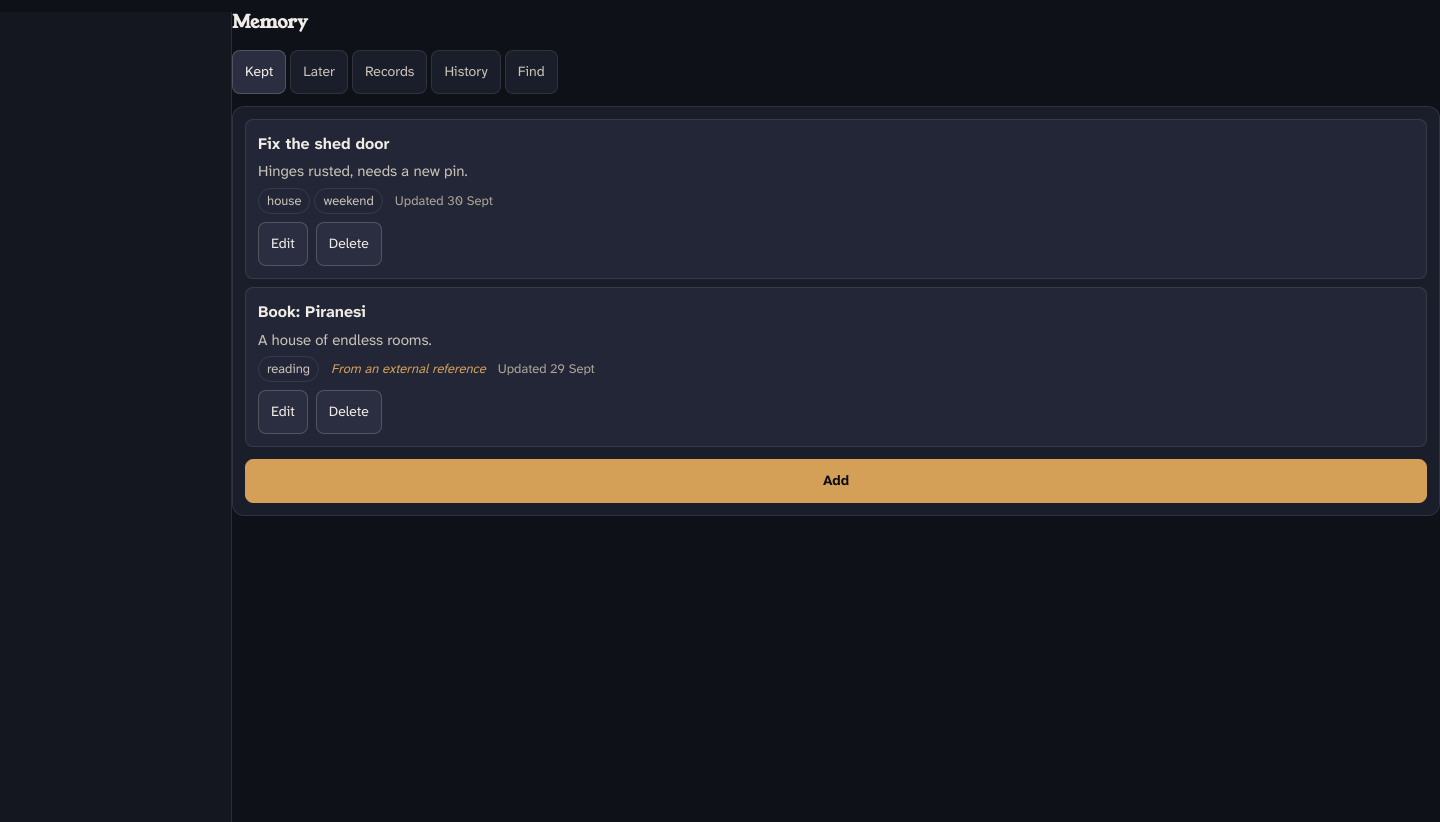
Scenario: Memory › Records shows a locked placeholder for masked rows; each tab has its own sentence
Step 1. Click the tab "Kept" → (259, 72), box x1=232 y1=50 x2=286 y2=94
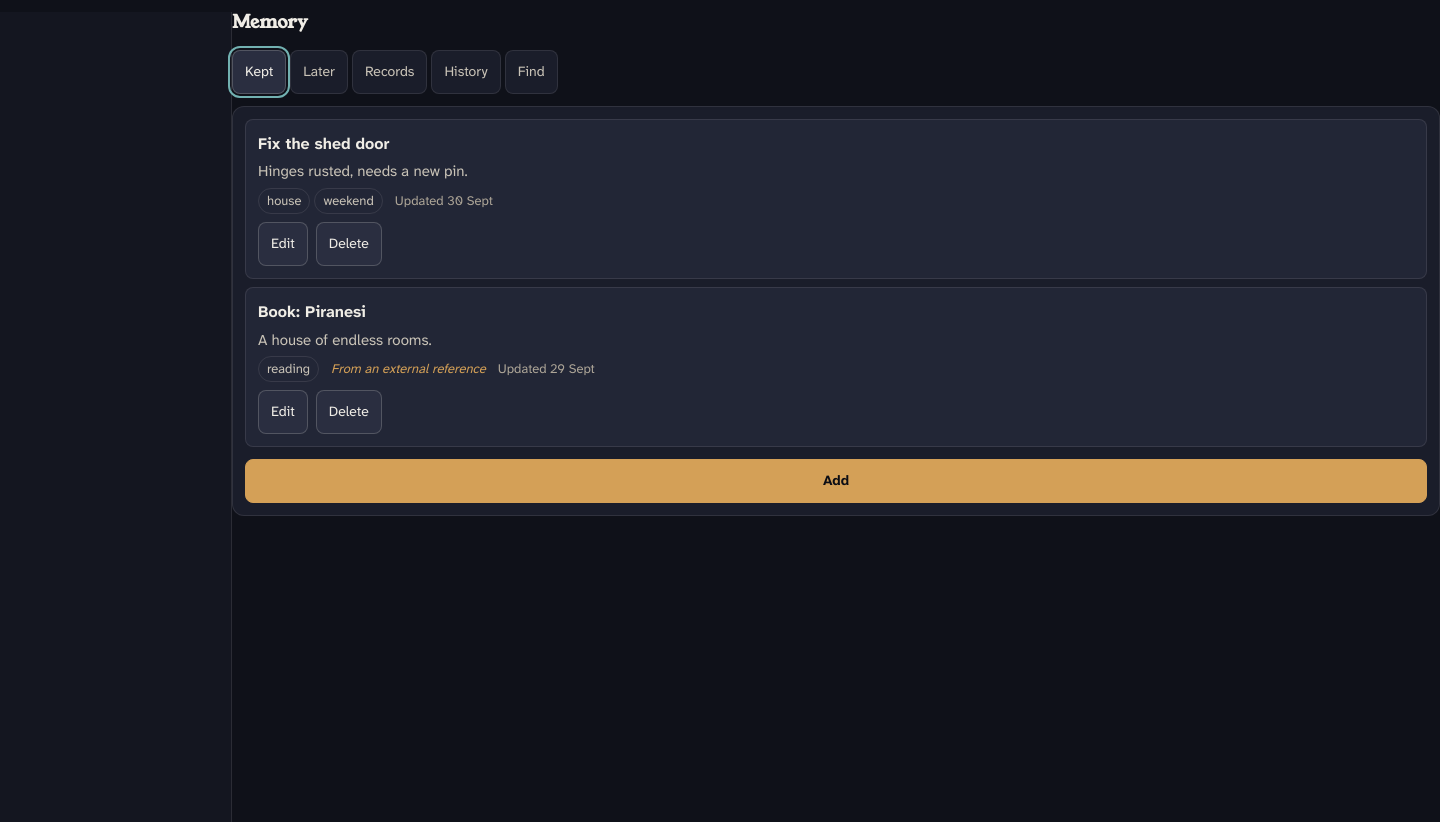
Step 2. Click the tab "Later" → (319, 72), box x1=290 y1=50 x2=348 y2=94
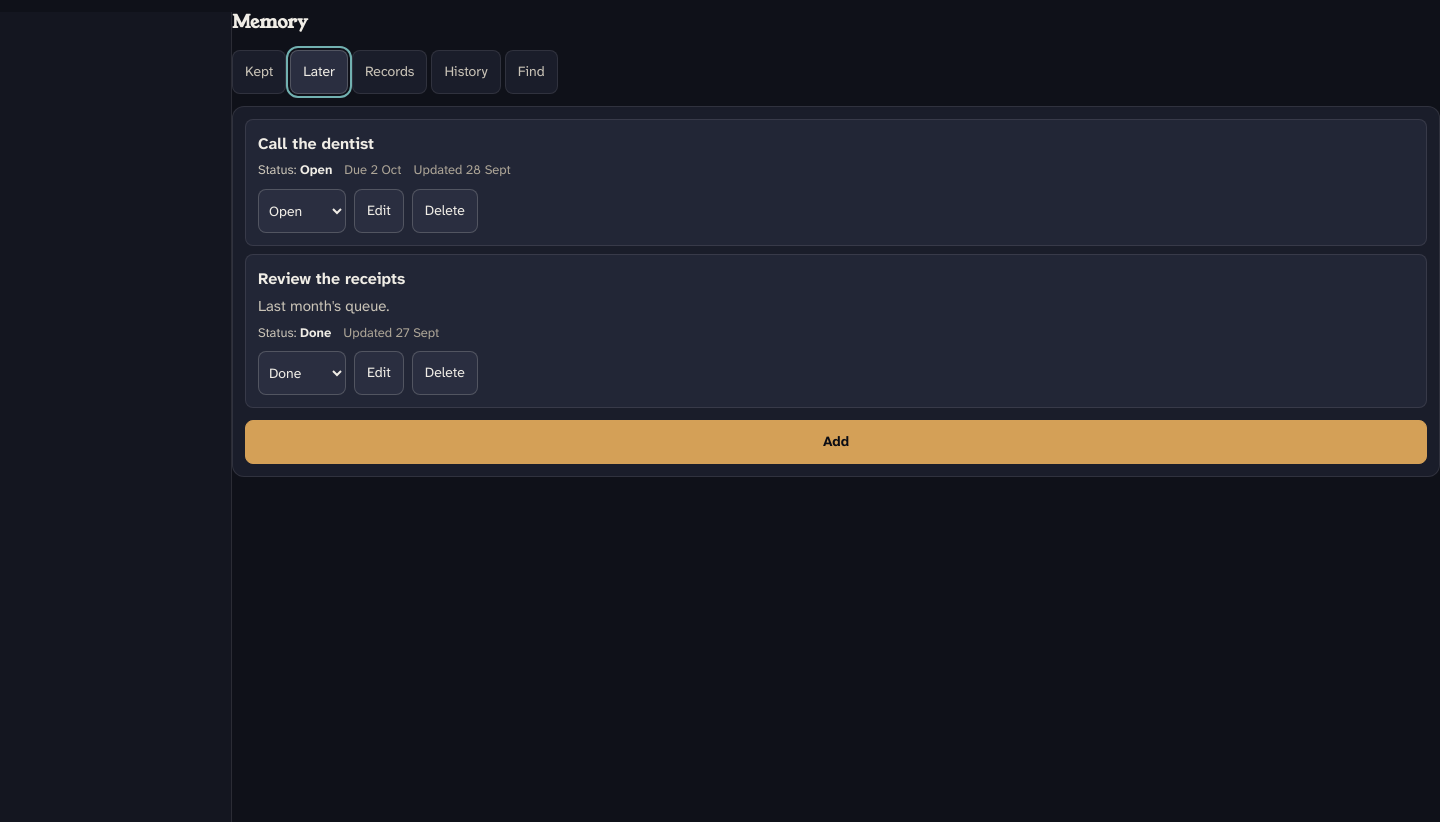
Step 3. Click the tab "Records" → (390, 72), box x1=352 y1=50 x2=427 y2=94
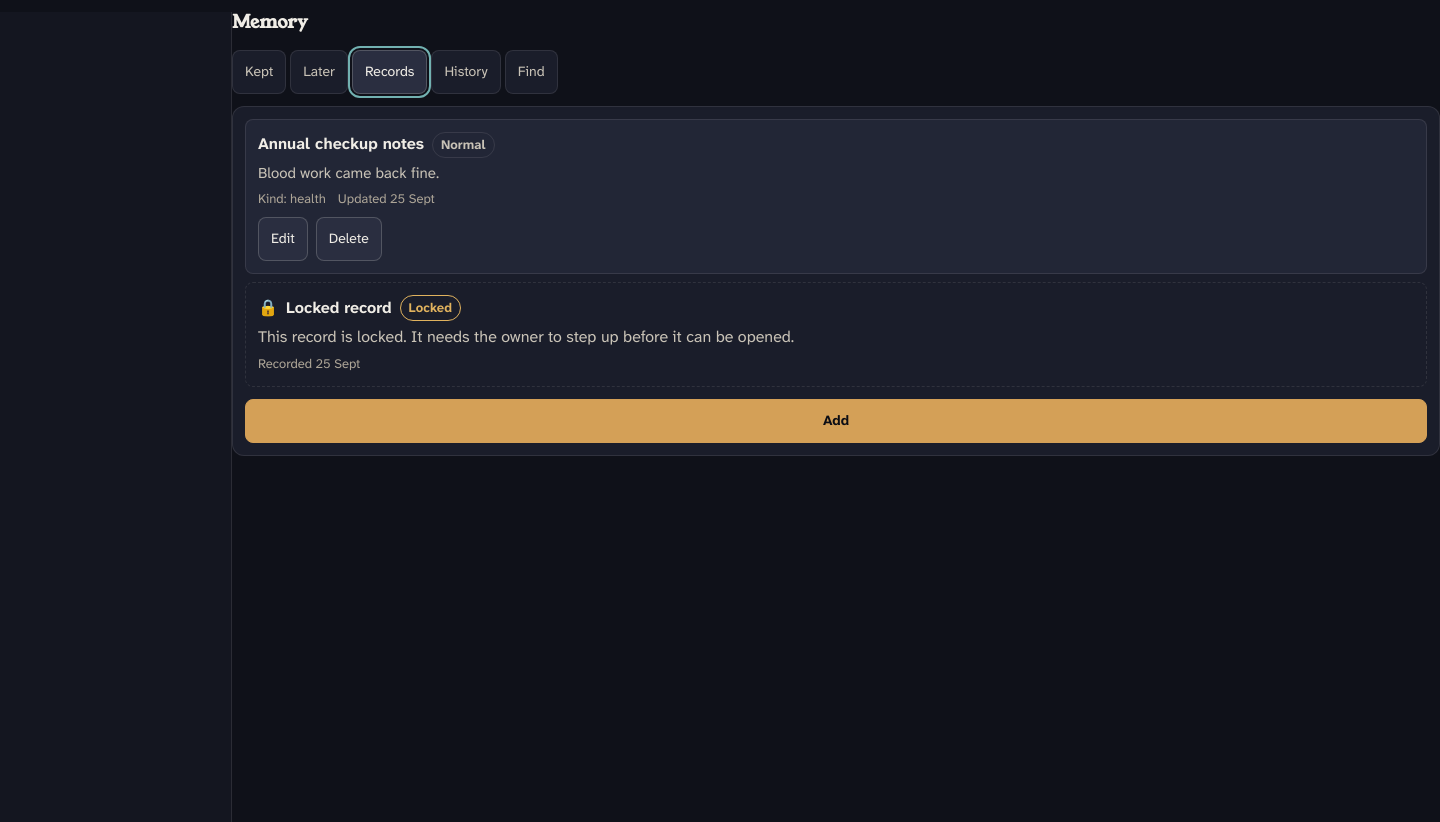
Step 4. Click the tab "History" → (466, 72), box x1=431 y1=50 x2=501 y2=94
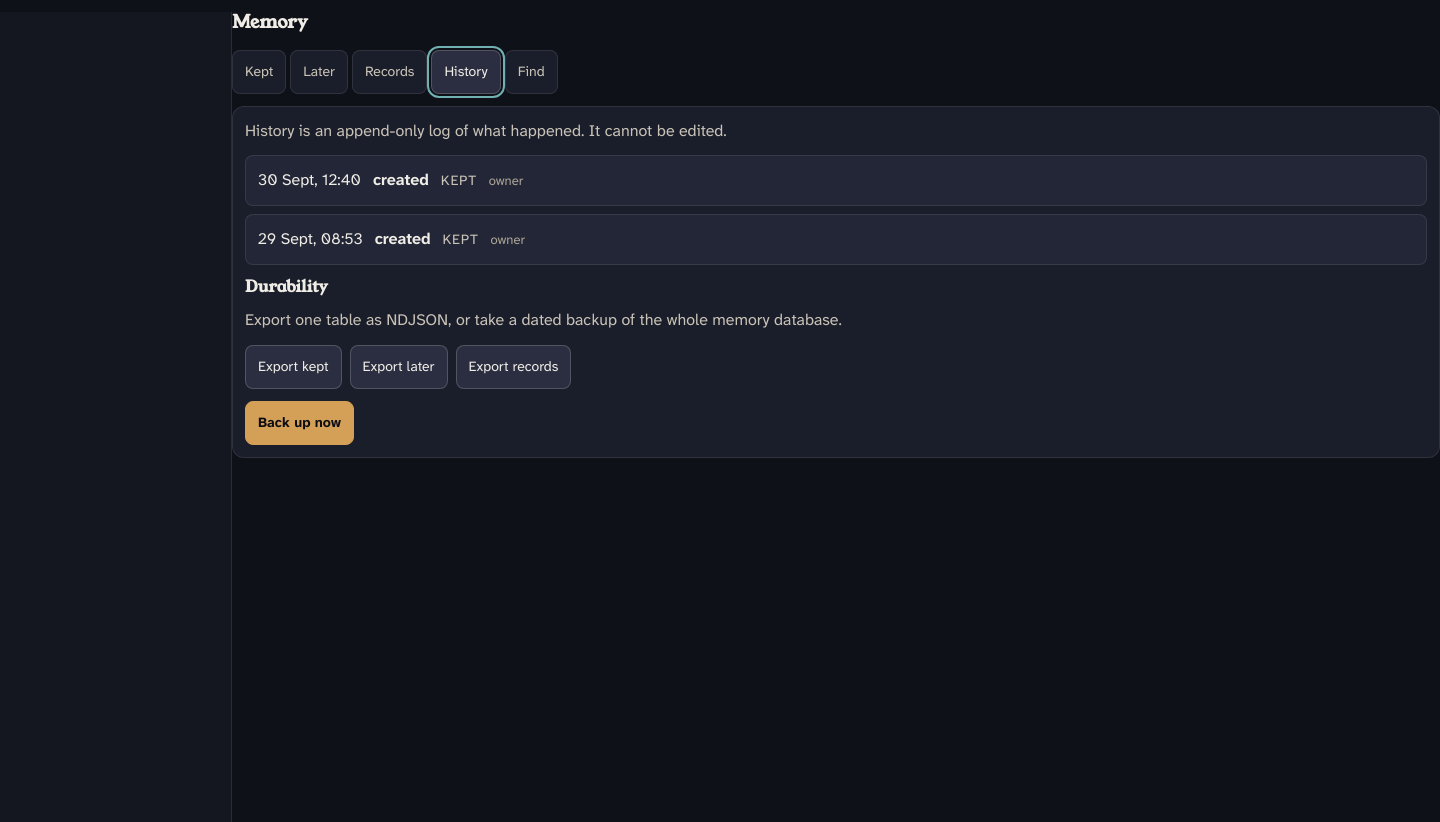
Step 5. Click the tab "Find" → (531, 72), box x1=505 y1=50 x2=558 y2=94
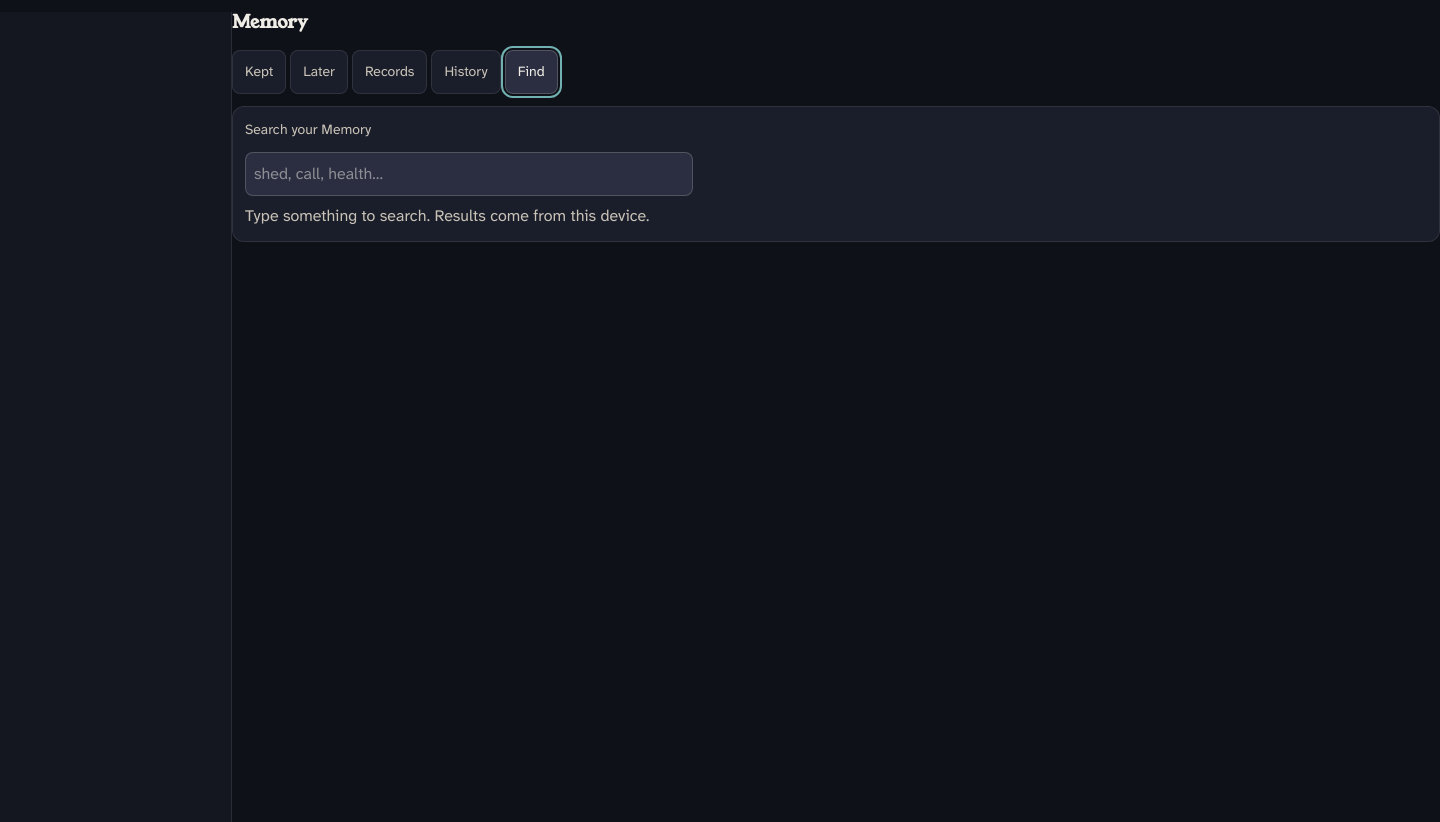
Step 6. Click the tab "Records" → (390, 72), box x1=352 y1=50 x2=427 y2=94
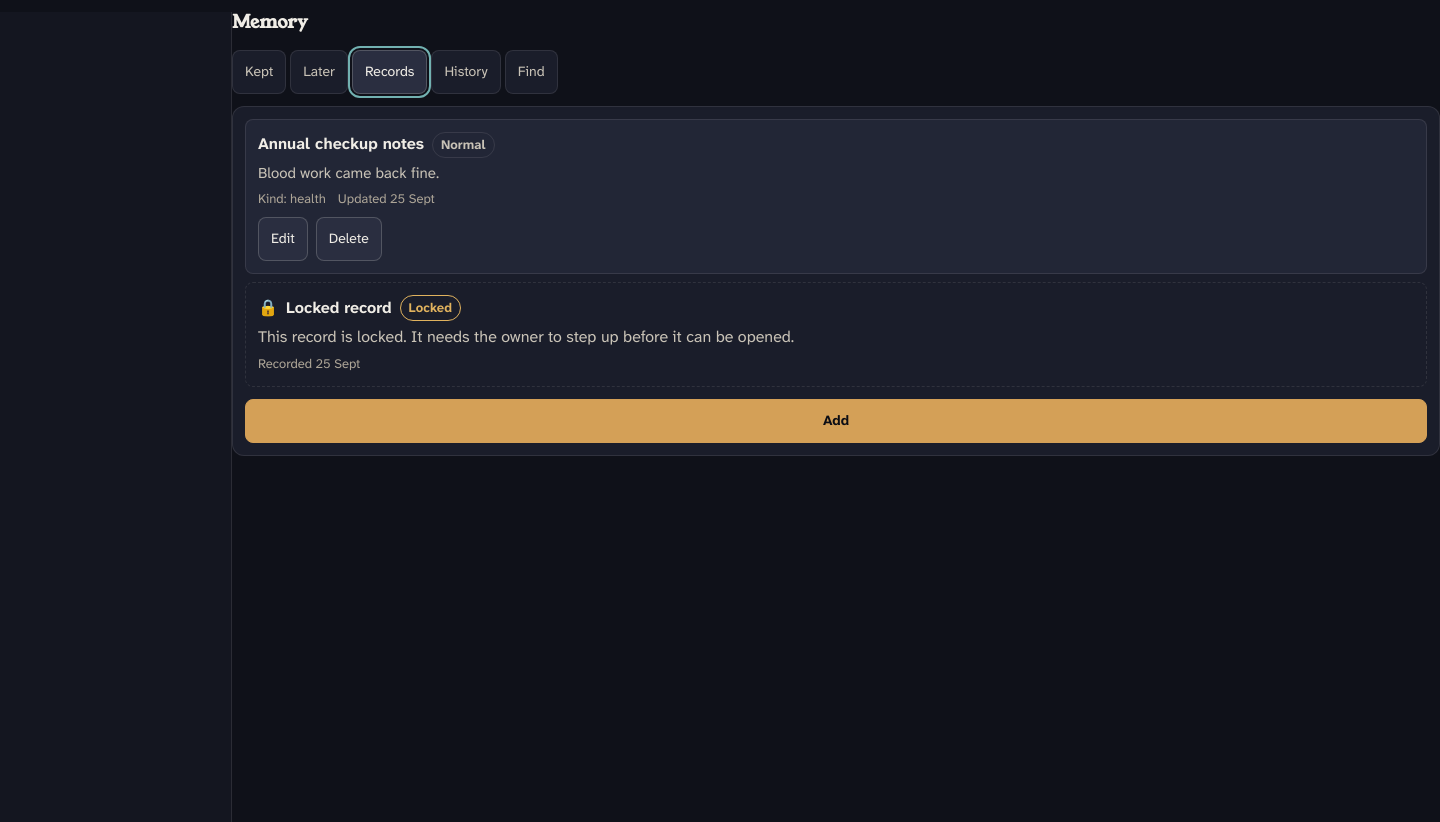
Result: the panel shows "locked" at x1=409 y1=299 x2=452 y2=316
